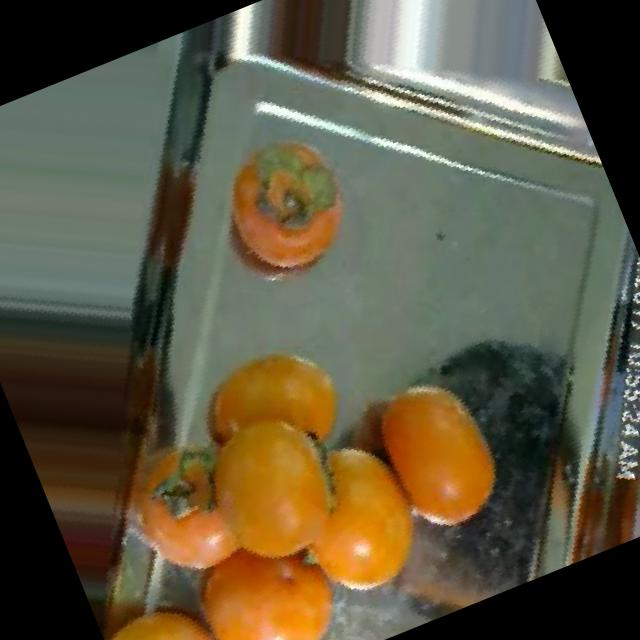Fruit: (142, 303, 390, 536), (164, 93, 400, 330), (322, 339, 546, 574), (148, 493, 381, 640)
